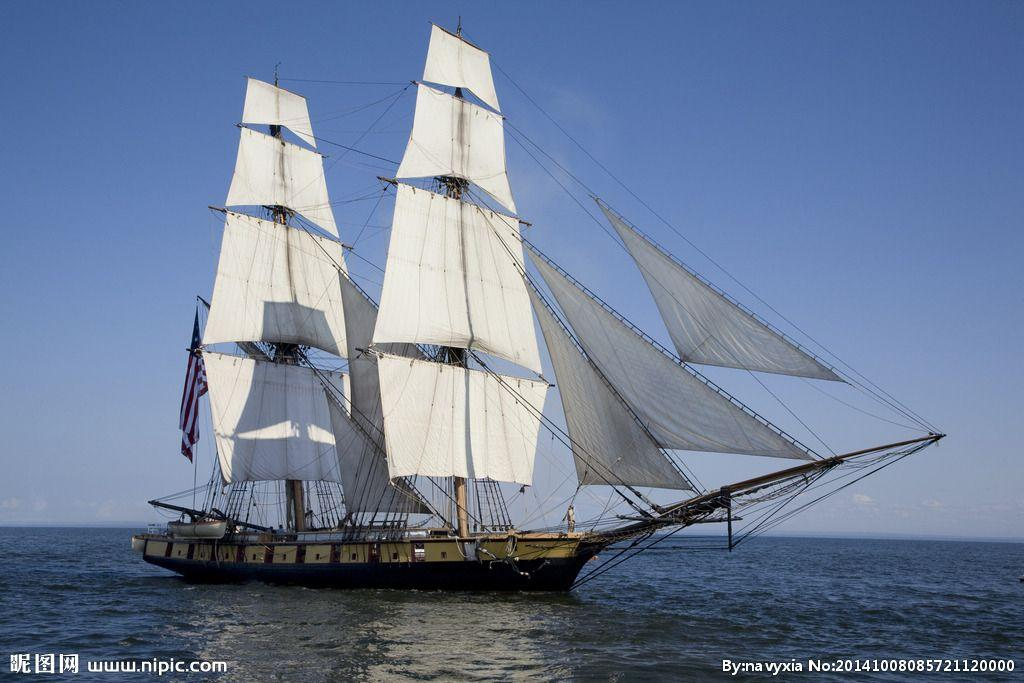fanchuan: (124, 1, 949, 587)
